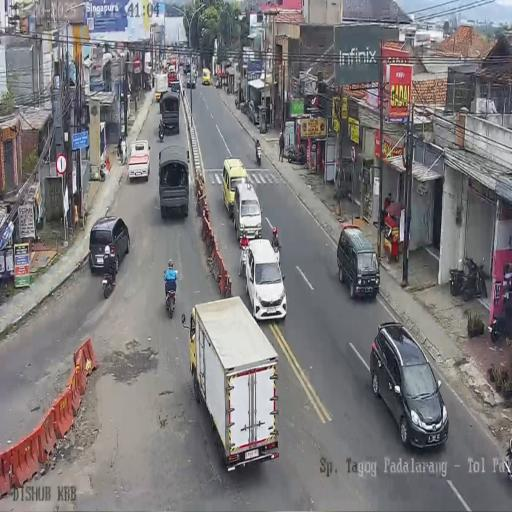car: (368, 320, 446, 448), (243, 238, 287, 320), (336, 224, 380, 301), (88, 215, 130, 275), (234, 181, 262, 241), (128, 139, 151, 181), (247, 99, 260, 125), (202, 67, 211, 86), (170, 80, 180, 94), (186, 75, 196, 88), (183, 64, 190, 74)
motorcycle: (450, 256, 486, 302), (489, 298, 512, 343), (102, 259, 116, 300), (164, 275, 177, 318), (286, 145, 305, 165), (255, 143, 262, 166), (158, 120, 165, 141), (241, 99, 248, 115), (216, 77, 222, 89)
truck: (186, 295, 280, 469), (158, 144, 189, 218), (159, 91, 180, 134), (154, 72, 169, 100), (168, 56, 178, 80)
